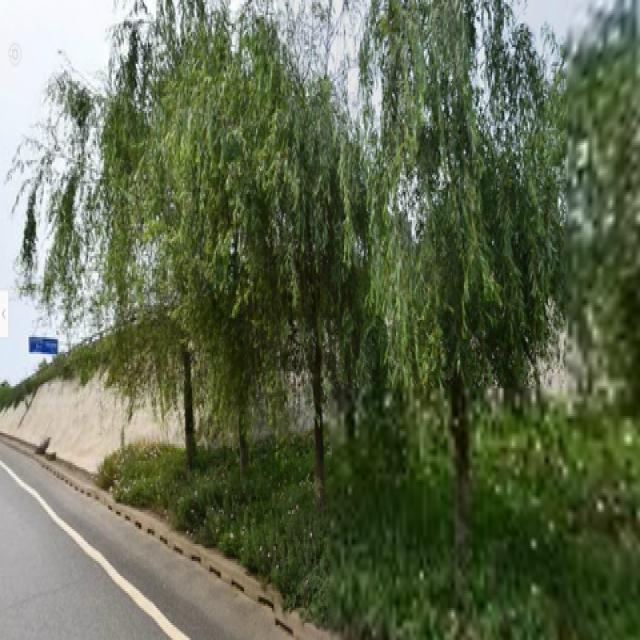plat: (385, 26, 516, 503), (243, 60, 356, 486), (107, 51, 201, 480)
